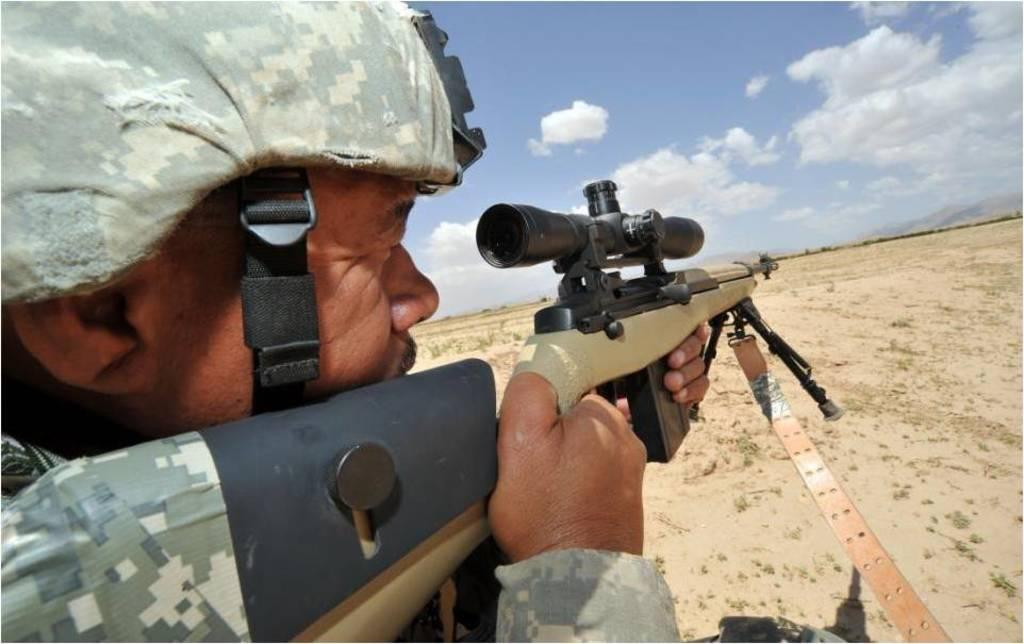Rifle: (0, 178, 916, 643)
